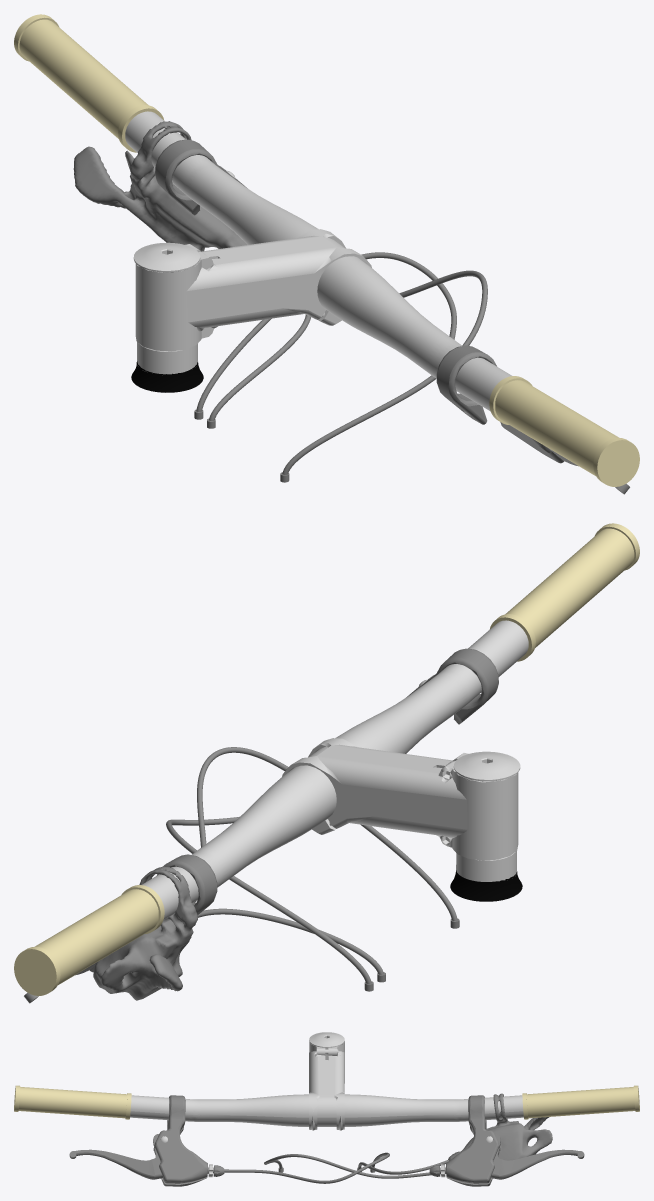
The model's file is Handle5_Flat_Shifter.glb.
The picture shows the model from 3 angles, top to bottom: view 1: azimuth 30°, elevation 25°; view 2: azimuth 150°, elevation 25°; view 3: azimuth 270°, elevation 25°; orthographic projection. The views are drawn at different scales.
Parts seen in each view (by area): view 1: no_transformations (×6); view 2: no_transformations (×6); view 3: no_transformations (×5).
Boxes of the visible parts, left/top/right/bottom form: no_transformations (×6): left=14, top=14, right=639, bottom=494; no_transformations (×6): left=14, top=523, right=639, bottom=1003; no_transformations (×5): left=14, top=1032, right=639, bottom=1186.
Bounding box in the file's own units: 198 × 125 × 614.
